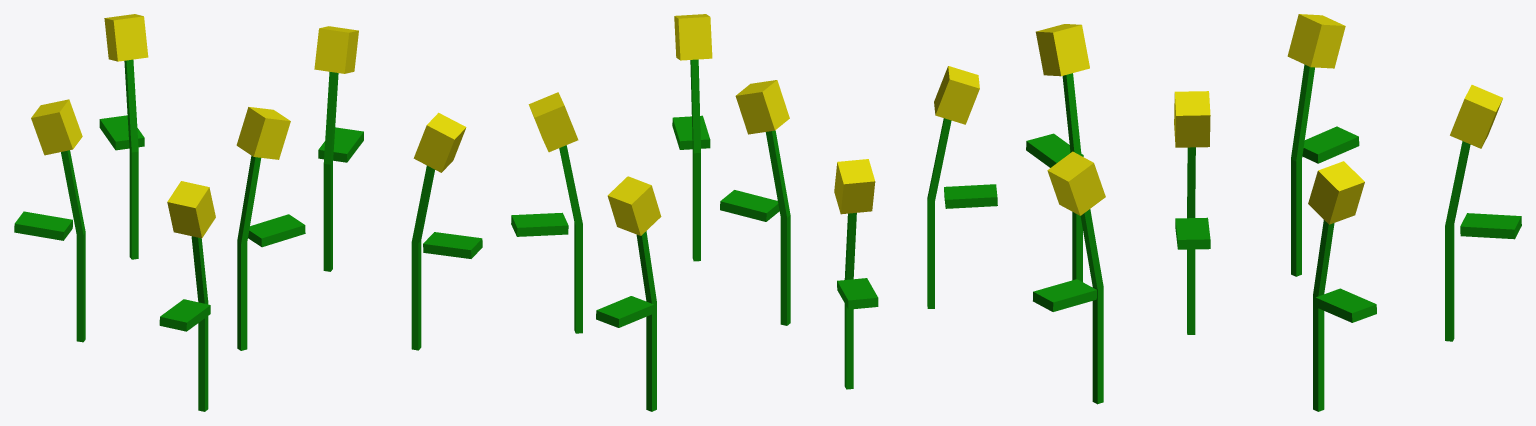
The model's file is Flower.001.fbx.
The picture shows the model from 3 angles, left to right: view 1: azimuth 30°, elevation 25°; view 2: azimuth 150°, elevation 25°; view 3: azimuth 270°, elevation 25°; orthographic projection. The views are drawn at different scales.
Visible parts, largest first — view 1: Flower.001; view 2: Flower.001; view 3: Flower.001.
Boxes of the visible parts, x1,y1,x2,y2 form: Flower.001: (14, 14, 482, 411); Flower.001: (511, 14, 997, 411); Flower.001: (1026, 14, 1521, 411).
Bounding box in the file's own units: 56.39 × 35.09 × 63.11.
